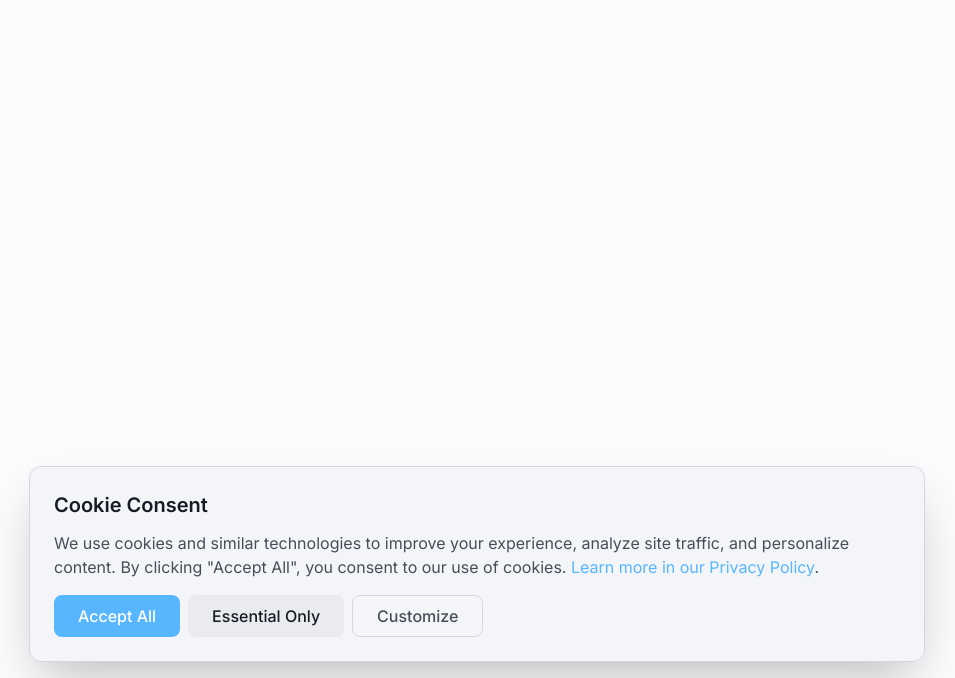
Test: CookieConsent › detailed view › shows detailed view when Customize is clicked
Click the button "Customize" at point(418, 616), box x1=352 y1=595 x2=483 y2=637
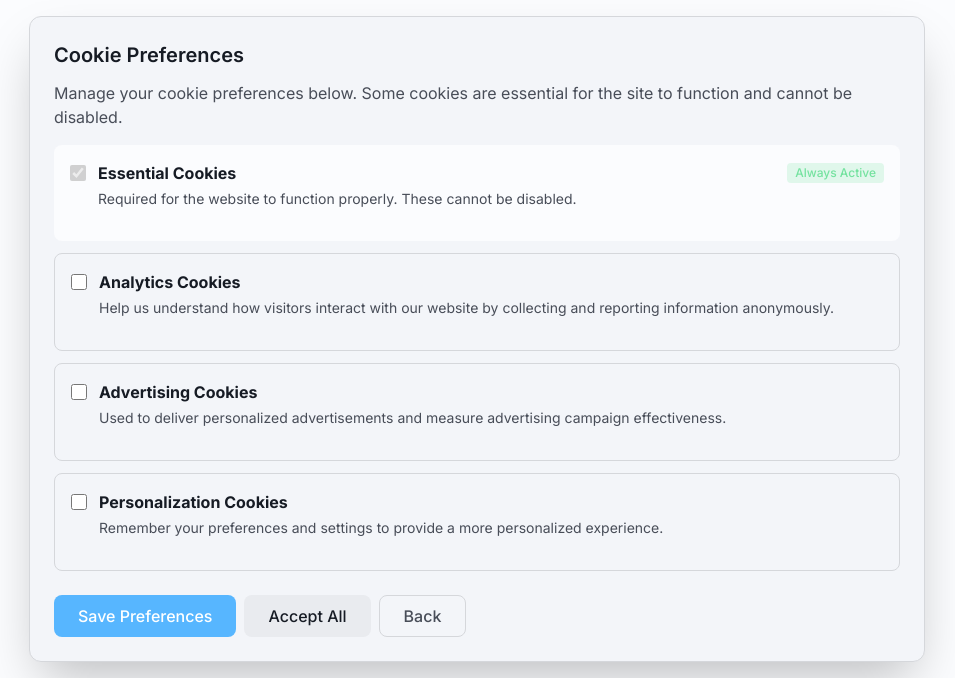
Now the heading "Cookie Preferences" is shown, box x1=54 y1=43 x2=244 y2=67
